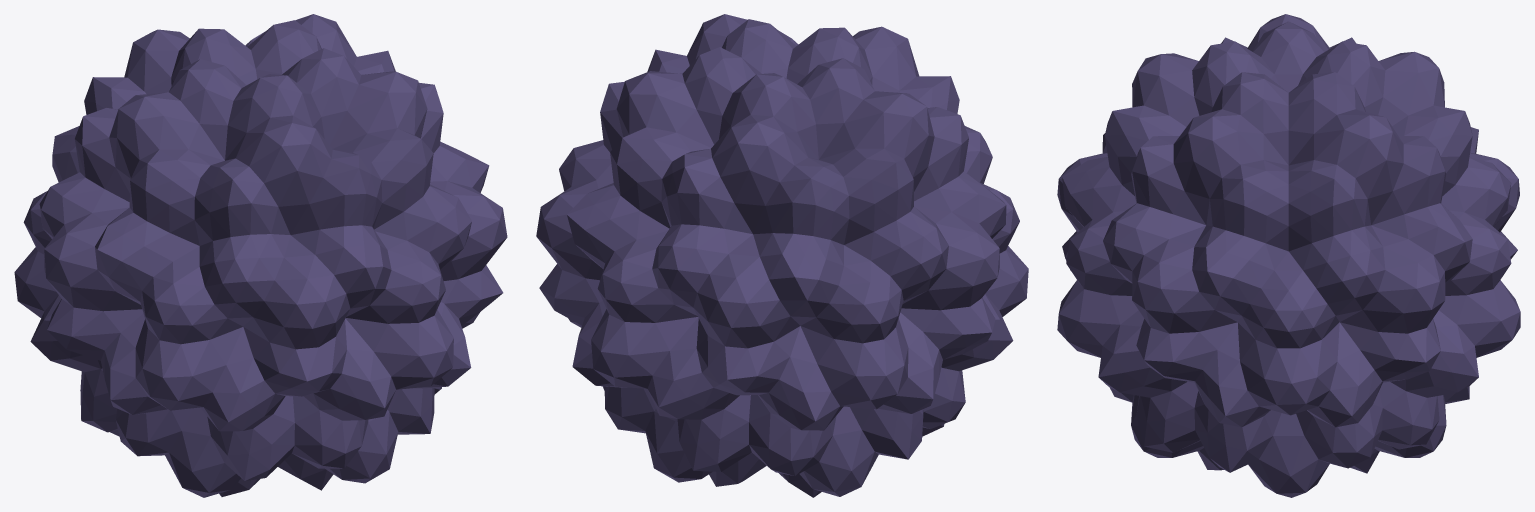
Rendered from cannon_1_projectile.fbx.
The picture shows the model from 3 angles, left to right: view 1: azimuth 30°, elevation 25°; view 2: azimuth 150°, elevation 25°; view 3: azimuth 270°, elevation 25°; orthographic projection.
Visible parts, largest first — view 1: projectile_1; view 2: projectile_1; view 3: projectile_1.
Part boxes in pixels (x1,y1,x2,y2): projectile_1: (14,14,507,497); projectile_1: (536,14,1028,497); projectile_1: (1057,14,1520,497).
Size of the model in its own units: 116 by 107 by 110.
